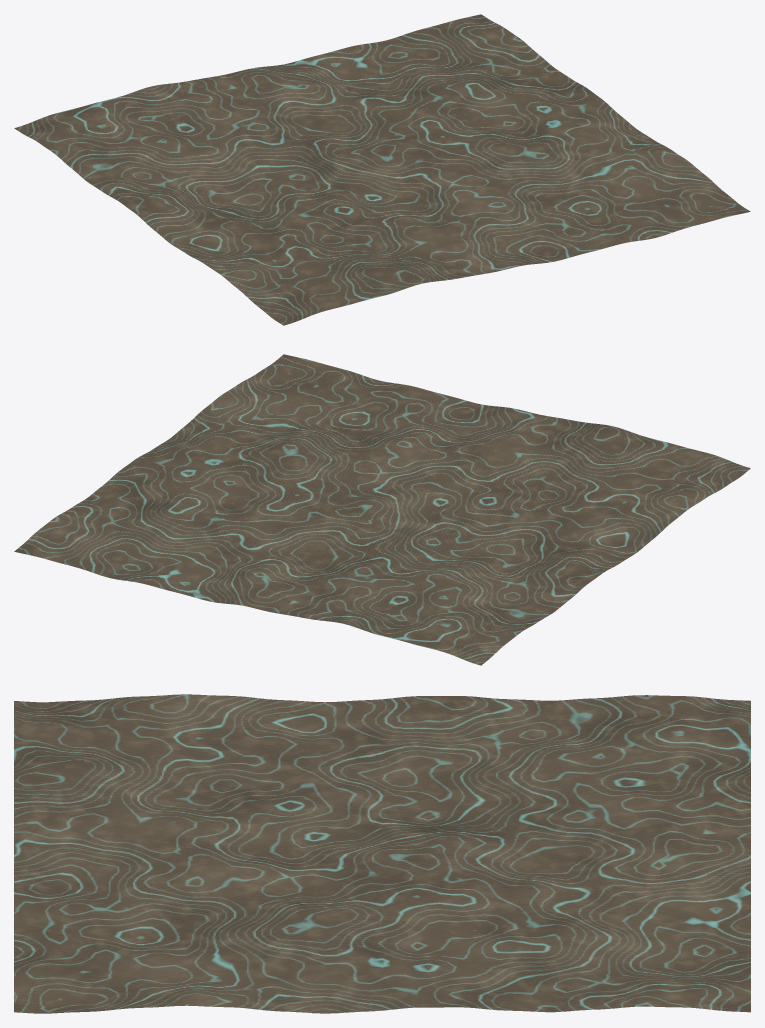
File: terrain_tile.glb
3 renders of one model, top to bottom at view 1: azimuth 30°, elevation 25°; view 2: azimuth 150°, elevation 25°; view 3: azimuth 270°, elevation 25°, orthographic. The views are drawn at different scales.
Parts seen in each view (by area): view 1: terrain_tile_Body; view 2: terrain_tile_Body; view 3: terrain_tile_Body.
Boxes of the visible parts, box(x1,y1,x2,y2) form: terrain_tile_Body: box(14, 14, 750, 325); terrain_tile_Body: box(14, 354, 750, 665); terrain_tile_Body: box(14, 694, 750, 1013).
Bounding box in the file's own units: 40 × 1.09 × 40.
Materials: 1 (1 with a texture image).
